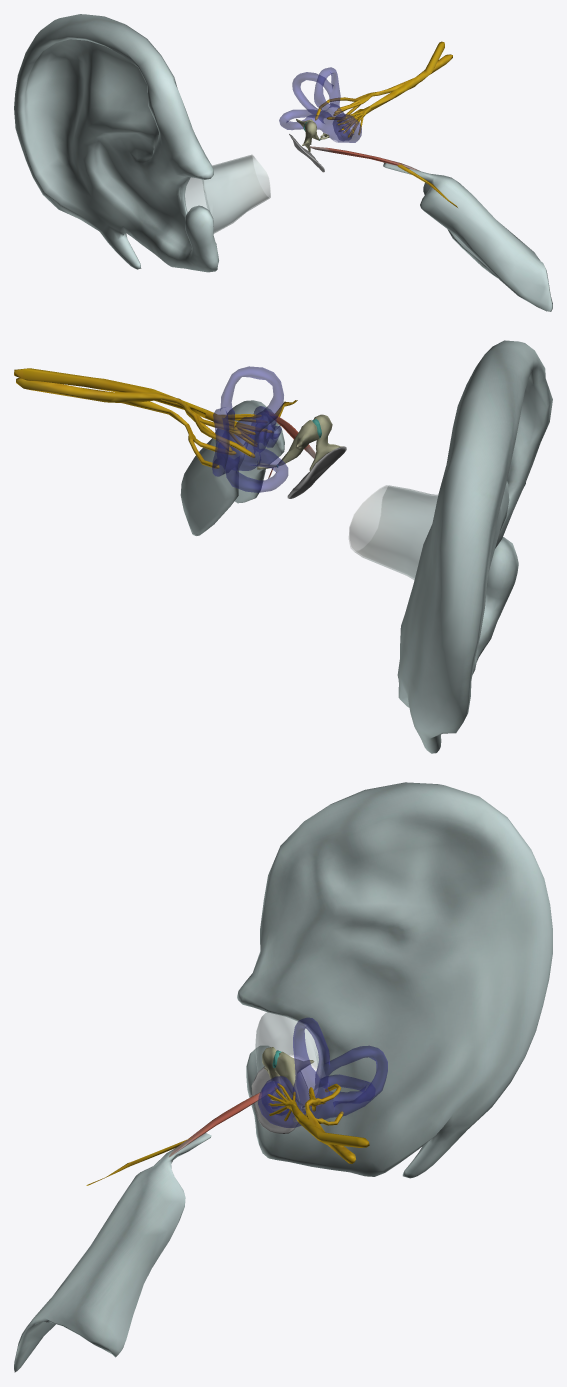
File: ear.glb
3 views of the same model, one above another, from view 1: azimuth 30°, elevation 25°; view 2: azimuth 150°, elevation 25°; view 3: azimuth 270°, elevation 25° (orthographic). The views are drawn at different scales.
Visible parts, largest first — view 1: Right_auricular_cartilage, Right_cartilage_of_eustachian__auditory__tube, Right_external_auditory_canal, Right_bony_labyrinth, Right_cochlear_nerve, Right_vestibular_nerve, Right_tensor_tympani; view 2: Right_auricular_cartilage, Right_cartilage_of_eustachian__auditory__tube, Right_bony_labyrinth, Right_external_auditory_canal, Right_vestibular_nerve, Right_cochlear_nerve, Right_tympanic_membrane, Right_incus, Right_malleus; view 3: Right_auricular_cartilage, Right_cartilage_of_eustachian__auditory__tube, Right_bony_labyrinth, Right_external_auditory_canal, Right_tympanic_membrane, Right_cochlear_nerve, Right_vestibular_nerve, Right_tensor_tympani, Right_incus.
Part boxes in pixels (box(x1,y1,x2,y2)): Right_auricular_cartilage: box(14, 14, 218, 272); Right_cartilage_of_eustachian__auditory__tube: box(383, 162, 552, 311); Right_external_auditory_canal: box(177, 154, 270, 233); Right_bony_labyrinth: box(279, 67, 361, 142); Right_cochlear_nerve: box(337, 41, 444, 137); Right_vestibular_nerve: box(315, 54, 452, 128); Right_tensor_tympani: box(309, 146, 420, 171); Right_auricular_cartilage: box(397, 340, 552, 753); Right_cartilage_of_eustachian__auditory__tube: box(180, 400, 284, 535); Right_bony_labyrinth: box(212, 366, 288, 492); Right_external_auditory_canal: box(349, 485, 438, 579); Right_vestibular_nerve: box(16, 378, 254, 468); Right_cochlear_nerve: box(14, 368, 272, 448); Right_tympanic_membrane: box(287, 446, 346, 498); Right_incus: box(278, 420, 319, 465); Right_malleus: box(309, 414, 342, 470); Right_auricular_cartilage: box(237, 782, 552, 1178); Right_cartilage_of_eustachian__auditory__tube: box(14, 1133, 211, 1372); Right_bony_labyrinth: box(258, 1017, 387, 1127); Right_external_auditory_canal: box(255, 1012, 325, 1127); Right_tympanic_membrane: box(251, 1066, 309, 1133); Right_cochlear_nerve: box(267, 1083, 369, 1147); Right_vestibular_nerve: box(305, 1083, 355, 1163); Right_tensor_tympani: box(169, 1086, 275, 1157); Right_incus: box(275, 1051, 314, 1101).
Bounding box in the file's own units: 0.0804 × 0.0553 × 0.0722.
15 materials, 15 textured.
